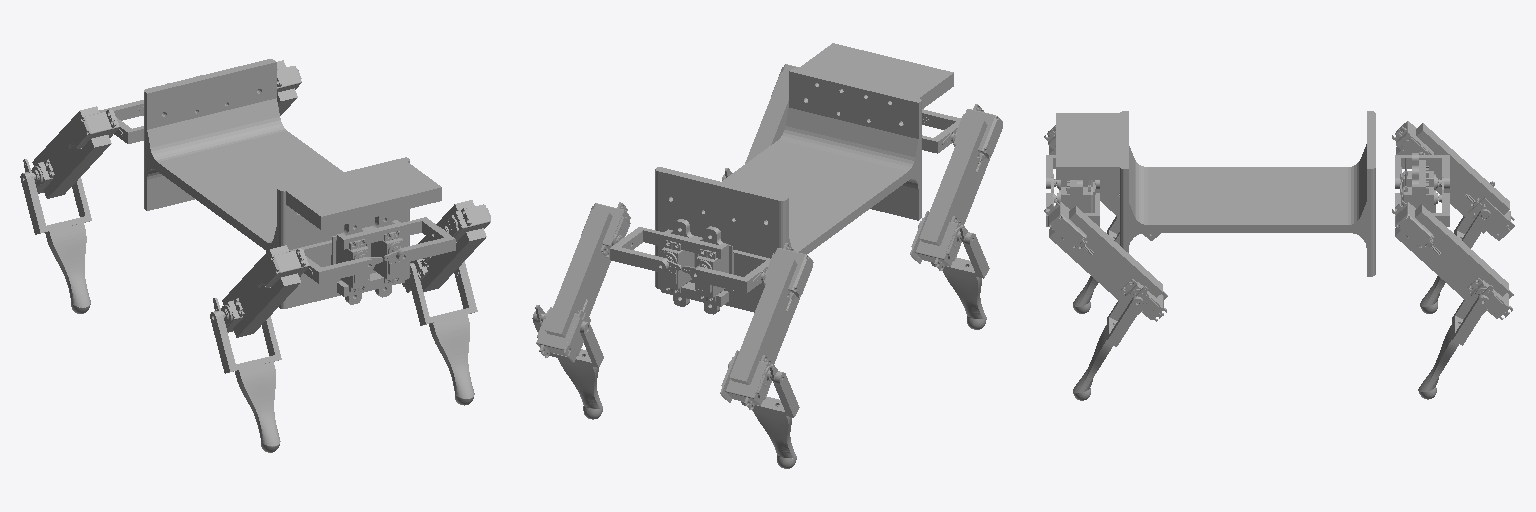
--- Facts derived from the render (not from the file) ---
3 views of the same robot in one strip: view 1: azimuth 30°, elevation 25°; view 2: azimuth 150°, elevation 25°; view 3: azimuth 270°, elevation 25° (orthographic).
Robot: simplicity — 46 links, 45 joints (12 continuous, 33 fixed); root link base_link; default pose: all joints at 0.
Visible links, largest first — view 1: base_link, flap_1, thigh_br_1, thigh_fr_1, leg_br_1, leg_fr_1, leg_fl_1, thigh_fl_1, shoulder_thigh_fl_1, thigh_leg_fr_1, thigh_leg_br_1, shoulder_thigh_fr_1 (+9 smaller); view 2: base_link, flap_1, thigh_br_1, thigh_fr_1, thigh_bl_1, shoulder_thigh_br_1, shoulder_thigh_bl_1, thigh_fl_1, shoulder_link_bt_1, servo_leg_br_1, servo_leg_fr_1, leg_bl_1 (+14 smaller); view 3: base_link, flap_1, thigh_fl_1, thigh_bl_1, thigh_br_1, thigh_leg_bl_1, thigh_leg_fl_1, servo_thigh_fl_1, servo_thigh_bl_1, shoulder_thigh_br_1, servo_leg_back_br_1, leg_fl_1 (+9 smaller).
Boxes of the visible links, left/top/right/bottom form: base_link: left=144, top=59, right=409, bottom=308; flap_1: left=286, top=162, right=441, bottom=229; thigh_br_1: left=32, top=106, right=111, bottom=198; thigh_fr_1: left=222, top=245, right=300, bottom=337; leg_br_1: left=45, top=223, right=90, bottom=307; leg_fr_1: left=235, top=362, right=280, bottom=446; leg_fl_1: left=429, top=314, right=474, bottom=398; thigh_fl_1: left=418, top=200, right=486, bottom=291; shoulder_thigh_fl_1: left=384, top=217, right=455, bottom=262; thigh_leg_fr_1: left=210, top=298, right=281, bottom=373; thigh_leg_br_1: left=20, top=159, right=91, bottom=234; shoulder_thigh_fr_1: left=289, top=240, right=382, bottom=283; base_link: left=655, top=68, right=921, bottom=312; flap_1: left=798, top=43, right=953, bottom=108; thigh_br_1: left=729, top=256, right=801, bottom=384; thigh_fr_1: left=919, top=117, right=991, bottom=245; thigh_bl_1: left=544, top=209, right=612, bottom=337; shoulder_thigh_br_1: left=682, top=250, right=770, bottom=293; shoulder_thigh_bl_1: left=610, top=227, right=681, bottom=272; thigh_fl_1: left=745, top=72, right=788, bottom=163; shoulder_link_bt_1: left=661, top=219, right=728, bottom=258; servo_leg_br_1: left=725, top=355, right=771, bottom=410; servo_leg_fr_1: left=915, top=216, right=961, bottom=270; leg_bl_1: left=558, top=358, right=602, bottom=408; base_link: left=1120, top=111, right=1375, bottom=276; flap_1: left=1056, top=113, right=1119, bottom=179; thigh_fl_1: left=1049, top=206, right=1162, bottom=314; thigh_bl_1: left=1395, top=204, right=1508, bottom=313; thigh_br_1: left=1396, top=123, right=1509, bottom=233; thigh_leg_bl_1: left=1452, top=285, right=1493, bottom=345; thigh_leg_fl_1: left=1107, top=286, right=1147, bottom=346; servo_thigh_fl_1: left=1044, top=200, right=1093, bottom=254; servo_thigh_bl_1: left=1392, top=200, right=1440, bottom=254; shoulder_thigh_br_1: left=1395, top=155, right=1449, bottom=189; servo_leg_back_br_1: left=1468, top=197, right=1514, bottom=240; leg_fl_1: left=1073, top=325, right=1112, bottom=393.
Bounding box of the posed robot: 0.2863 × 0.5154 × 0.2614 m (x, y, z).
Meshes: 46 distinct files referenced, 46 mesh visuals loaded (46 binary STL).

URDF robot description (simplicity):
<?xml version="1.0" encoding="utf-8"?>
<!-- =================================================================================== -->
<!-- |    This document was autogenerated by xacro from simplicity.xacro               | -->
<!-- |    EDITING THIS FILE BY HAND IS NOT RECOMMENDED                                 | -->
<!-- =================================================================================== -->
<robot name="simplicity">
  <material name="silver">
    <color rgba="0.700 0.700 0.700 1.000"/>
  </material>
  <transmission name="Rev14_tran">
    <type>transmission_interface/SimpleTransmission</type>
    <joint name="Rev14">
      <hardwareInterface>hardware_interface/EffortJointInterface</hardwareInterface>
    </joint>
    <actuator name="Rev14_actr">
      <hardwareInterface>hardware_interface/EffortJointInterface</hardwareInterface>
      <mechanicalReduction>1</mechanicalReduction>
    </actuator>
  </transmission>
  <transmission name="Rev15_tran">
    <type>transmission_interface/SimpleTransmission</type>
    <joint name="Rev15">
      <hardwareInterface>hardware_interface/EffortJointInterface</hardwareInterface>
    </joint>
    <actuator name="Rev15_actr">
      <hardwareInterface>hardware_interface/EffortJointInterface</hardwareInterface>
      <mechanicalReduction>1</mechanicalReduction>
    </actuator>
  </transmission>
  <transmission name="Rev16_tran">
    <type>transmission_interface/SimpleTransmission</type>
    <joint name="Rev16">
      <hardwareInterface>hardware_interface/EffortJointInterface</hardwareInterface>
    </joint>
    <actuator name="Rev16_actr">
      <hardwareInterface>hardware_interface/EffortJointInterface</hardwareInterface>
      <mechanicalReduction>1</mechanicalReduction>
    </actuator>
  </transmission>
  <transmission name="Rev17_tran">
    <type>transmission_interface/SimpleTransmission</type>
    <joint name="Rev17">
      <hardwareInterface>hardware_interface/EffortJointInterface</hardwareInterface>
    </joint>
    <actuator name="Rev17_actr">
      <hardwareInterface>hardware_interface/EffortJointInterface</hardwareInterface>
      <mechanicalReduction>1</mechanicalReduction>
    </actuator>
  </transmission>
  <transmission name="Rev18_tran">
    <type>transmission_interface/SimpleTransmission</type>
    <joint name="Rev18">
      <hardwareInterface>hardware_interface/EffortJointInterface</hardwareInterface>
    </joint>
    <actuator name="Rev18_actr">
      <hardwareInterface>hardware_interface/EffortJointInterface</hardwareInterface>
      <mechanicalReduction>1</mechanicalReduction>
    </actuator>
  </transmission>
  <transmission name="Rev19_tran">
    <type>transmission_interface/SimpleTransmission</type>
    <joint name="Rev19">
      <hardwareInterface>hardware_interface/EffortJointInterface</hardwareInterface>
    </joint>
    <actuator name="Rev19_actr">
      <hardwareInterface>hardware_interface/EffortJointInterface</hardwareInterface>
      <mechanicalReduction>1</mechanicalReduction>
    </actuator>
  </transmission>
  <transmission name="Rev20_tran">
    <type>transmission_interface/SimpleTransmission</type>
    <joint name="Rev20">
      <hardwareInterface>hardware_interface/EffortJointInterface</hardwareInterface>
    </joint>
    <actuator name="Rev20_actr">
      <hardwareInterface>hardware_interface/EffortJointInterface</hardwareInterface>
      <mechanicalReduction>1</mechanicalReduction>
    </actuator>
  </transmission>
  <transmission name="Rev21_tran">
    <type>transmission_interface/SimpleTransmission</type>
    <joint name="Rev21">
      <hardwareInterface>hardware_interface/EffortJointInterface</hardwareInterface>
    </joint>
    <actuator name="Rev21_actr">
      <hardwareInterface>hardware_interface/EffortJointInterface</hardwareInterface>
      <mechanicalReduction>1</mechanicalReduction>
    </actuator>
  </transmission>
  <transmission name="Rev35_tran">
    <type>transmission_interface/SimpleTransmission</type>
    <joint name="Rev35">
      <hardwareInterface>hardware_interface/EffortJointInterface</hardwareInterface>
    </joint>
    <actuator name="Rev35_actr">
      <hardwareInterface>hardware_interface/EffortJointInterface</hardwareInterface>
      <mechanicalReduction>1</mechanicalReduction>
    </actuator>
  </transmission>
  <transmission name="Rev36_tran">
    <type>transmission_interface/SimpleTransmission</type>
    <joint name="Rev36">
      <hardwareInterface>hardware_interface/EffortJointInterface</hardwareInterface>
    </joint>
    <actuator name="Rev36_actr">
      <hardwareInterface>hardware_interface/EffortJointInterface</hardwareInterface>
      <mechanicalReduction>1</mechanicalReduction>
    </actuator>
  </transmission>
  <transmission name="Rev37_tran">
    <type>transmission_interface/SimpleTransmission</type>
    <joint name="Rev37">
      <hardwareInterface>hardware_interface/EffortJointInterface</hardwareInterface>
    </joint>
    <actuator name="Rev37_actr">
      <hardwareInterface>hardware_interface/EffortJointInterface</hardwareInterface>
      <mechanicalReduction>1</mechanicalReduction>
    </actuator>
  </transmission>
  <transmission name="Rev38_tran">
    <type>transmission_interface/SimpleTransmission</type>
    <joint name="Rev38">
      <hardwareInterface>hardware_interface/EffortJointInterface</hardwareInterface>
    </joint>
    <actuator name="Rev38_actr">
      <hardwareInterface>hardware_interface/EffortJointInterface</hardwareInterface>
      <mechanicalReduction>1</mechanicalReduction>
    </actuator>
  </transmission>
  <gazebo>
    <plugin filename="libgazebo_ros_control.so" name="control">
      <robotNamespace>/simplicity</robotNamespace>
    </plugin>
  </gazebo>
  <gazebo>
    <plugin filename="libgazebo_ros_p3d.so" name="p3d_base_controller">
      <alwaysOn>true</alwaysOn>
      <!--<updateRate>50.0</updateRate>-->
      <bodyName>base_link</bodyName>
      <topicName>odom</topicName>
      <gaussianNoise>0.01</gaussianNoise>
      <frameName>world</frameName>
      <xyzOffsets>0 0 0</xyzOffsets>
      <rpyOffsets>0 0 0</rpyOffsets>
    </plugin>
  </gazebo>
  <gazebo reference="base_link">
    <material>Gazebo/Silver</material>
    <mu1>0.2</mu1>
    <mu2>0.2</mu2>
    <selfCollide>true</selfCollide>
    <gravity>true</gravity>
  </gazebo>
  <gazebo>
    <plugin filename="libgazebo_ros_imu.so" name="gazebo_ros_imu_controller">
      <robotNamespace>/simplicity</robotNamespace>
      <topicName>imu/data</topicName>
      <serviceName>imu/service</serviceName>
      <bodyName>base_link</bodyName>
      <gaussianNoise>0</gaussianNoise>
      <rpyOffsets>0 0 0</rpyOffsets>
      <!--<updateRate>50.0</updateRate>-->
      <alwaysOn>true</alwaysOn>
      <gaussianNoise>0</gaussianNoise>
    </plugin>
  </gazebo>
  <gazebo reference="flap_1">
    <material>Gazebo/Silver</material>
    <mu1>0.2</mu1>
    <mu2>0.2</mu2>
    <selfCollide>true</selfCollide>
  </gazebo>
  <gazebo reference="shoulder_link_ft_1">
    <material>Gazebo/Silver</material>
    <mu1>0.2</mu1>
    <mu2>0.2</mu2>
    <selfCollide>true</selfCollide>
  </gazebo>
  <gazebo reference="shoulder_link_fb_1">
    <material>Gazebo/Silver</material>
    <mu1>0.2</mu1>
    <mu2>0.2</mu2>
    <selfCollide>true</selfCollide>
  </gazebo>
  <gazebo reference="shoulder_link_bt_1">
    <material>Gazebo/Silver</material>
    <mu1>0.2</mu1>
    <mu2>0.2</mu2>
    <selfCollide>true</selfCollide>
  </gazebo>
  <gazebo reference="shoulder_link_bb_1">
    <material>Gazebo/Silver</material>
    <mu1>0.2</mu1>
    <mu2>0.2</mu2>
    <selfCollide>true</selfCollide>
  </gazebo>
  <gazebo reference="servo_shoulder_fr_1">
    <material>Gazebo/Silver</material>
    <mu1>0.2</mu1>
    <mu2>0.2</mu2>
    <selfCollide>true</selfCollide>
  </gazebo>
  <gazebo reference="servo_shoulder_fl_1">
    <material>Gazebo/Silver</material>
    <mu1>0.2</mu1>
    <mu2>0.2</mu2>
    <selfCollide>true</selfCollide>
  </gazebo>
  <gazebo reference="servo_shoulder_br_1">
    <material>Gazebo/Silver</material>
    <mu1>0.2</mu1>
    <mu2>0.2</mu2>
    <selfCollide>true</selfCollide>
  </gazebo>
  <gazebo reference="servo_shoulder_bl_1">
    <material>Gazebo/Silver</material>
    <mu1>0.2</mu1>
    <mu2>0.2</mu2>
    <selfCollide>true</selfCollide>
  </gazebo>
  <gazebo reference="servo_back_fl_1">
    <material>Gazebo/Silver</material>
    <mu1>0.2</mu1>
    <mu2>0.2</mu2>
    <selfCollide>true</selfCollide>
  </gazebo>
  <gazebo reference="servo_back_fr_1">
    <material>Gazebo/Silver</material>
    <mu1>0.2</mu1>
    <mu2>0.2</mu2>
    <selfCollide>true</selfCollide>
  </gazebo>
  <gazebo reference="servo_back_br_1">
    <material>Gazebo/Silver</material>
    <mu1>0.2</mu1>
    <mu2>0.2</mu2>
    <selfCollide>true</selfCollide>
  </gazebo>
  <gazebo reference="servo_back_bl_1">
    <material>Gazebo/Silver</material>
    <mu1>0.2</mu1>
    <mu2>0.2</mu2>
    <selfCollide>true</selfCollide>
  </gazebo>
  <gazebo reference="shoulder_thigh_fr_1">
    <material>Gazebo/Silver</material>
    <mu1>0.2</mu1>
    <mu2>0.2</mu2>
    <selfCollide>true</selfCollide>
  </gazebo>
  <gazebo reference="shoulder_thigh_fl_1">
    <material>Gazebo/Silver</material>
    <mu1>0.2</mu1>
    <mu2>0.2</mu2>
    <selfCollide>true</selfCollide>
  </gazebo>
  <gazebo reference="shoulder_thigh_bl_1">
    <material>Gazebo/Silver</material>
    <mu1>0.2</mu1>
    <mu2>0.2</mu2>
    <selfCollide>true</selfCollide>
  </gazebo>
  <gazebo reference="shoulder_thigh_br_1">
    <material>Gazebo/Silver</material>
    <mu1>0.2</mu1>
    <mu2>0.2</mu2>
    <selfCollide>true</selfCollide>
  </gazebo>
  <gazebo reference="servo_thigh_fl_1">
    <material>Gazebo/Silver</material>
    <mu1>0.2</mu1>
    <mu2>0.2</mu2>
    <selfCollide>true</selfCollide>
  </gazebo>
  <gazebo reference="servo-thigh_fr_1">
    <material>Gazebo/Silver</material>
    <mu1>0.2</mu1>
    <mu2>0.2</mu2>
    <selfCollide>true</selfCollide>
  </gazebo>
  <gazebo reference="servo_thigh_br_1">
    <material>Gazebo/Silver</material>
    <mu1>0.2</mu1>
    <mu2>0.2</mu2>
    <selfCollide>true</selfCollide>
  </gazebo>
  <gazebo reference="servo_thigh_bl_1">
    <material>Gazebo/Silver</material>
    <mu1>0.2</mu1>
    <mu2>0.2</mu2>
    <selfCollide>true</selfCollide>
  </gazebo>
  <gazebo reference="thigh_fl_1">
    <material>Gazebo/Silver</material>
    <mu1>0.2</mu1>
    <mu2>0.2</mu2>
    <selfCollide>true</selfCollide>
  </gazebo>
  <gazebo reference="thigh_fr_1">
    <material>Gazebo/Silver</material>
    <mu1>0.2</mu1>
    <mu2>0.2</mu2>
    <selfCollide>true</selfCollide>
  </gazebo>
  <gazebo reference="thigh_br_1">
    <material>Gazebo/Silver</material>
    <mu1>0.2</mu1>
    <mu2>0.2</mu2>
    <selfCollide>true</selfCollide>
  </gazebo>
  <gazebo reference="thigh_bl_1">
    <material>Gazebo/Silver</material>
    <mu1>0.2</mu1>
    <mu2>0.2</mu2>
    <selfCollide>true</selfCollide>
  </gazebo>
  <gazebo reference="servo_leg_fl_1">
    <material>Gazebo/Silver</material>
    <mu1>0.2</mu1>
    <mu2>0.2</mu2>
    <selfCollide>true</selfCollide>
  </gazebo>
  <gazebo reference="servo_leg_fr_1">
    <material>Gazebo/Silver</material>
    <mu1>0.2</mu1>
    <mu2>0.2</mu2>
    <selfCollide>true</selfCollide>
  </gazebo>
  <gazebo reference="servo_leg_br_1">
    <material>Gazebo/Silver</material>
    <mu1>0.2</mu1>
    <mu2>0.2</mu2>
    <selfCollide>true</selfCollide>
  </gazebo>
  <gazebo reference="servo_leg_bl_1">
    <material>Gazebo/Silver</material>
    <mu1>0.2</mu1>
    <mu2>0.2</mu2>
    <selfCollide>true</selfCollide>
  </gazebo>
  <gazebo reference="servo_leg_back_fr_1">
    <material>Gazebo/Silver</material>
    <mu1>0.2</mu1>
    <mu2>0.2</mu2>
    <selfCollide>true</selfCollide>
  </gazebo>
  <gazebo reference="servo_leg_back_fl_1">
    <material>Gazebo/Silver</material>
    <mu1>0.2</mu1>
    <mu2>0.2</mu2>
    <selfCollide>true</selfCollide>
  </gazebo>
  <gazebo reference="servo_leg_back_br_1">
    <material>Gazebo/Silver</material>
    <mu1>0.2</mu1>
    <mu2>0.2</mu2>
    <selfCollide>true</selfCollide>
  </gazebo>
  <gazebo reference="servo_leg_back_bl_1">
    <material>Gazebo/Silver</material>
    <mu1>0.2</mu1>
    <mu2>0.2</mu2>
    <selfCollide>true</selfCollide>
  </gazebo>
  <gazebo reference="thigh_leg_fl_1">
    <material>Gazebo/Silver</material>
    <mu1>0.2</mu1>
    <mu2>0.2</mu2>
    <selfCollide>true</selfCollide>
  </gazebo>
  <gazebo reference="thigh_leg_fr_1">
    <material>Gazebo/Silver</material>
    <mu1>0.2</mu1>
    <mu2>0.2</mu2>
    <selfCollide>true</selfCollide>
  </gazebo>
  <gazebo reference="thigh_leg_bl_1">
    <material>Gazebo/Silver</material>
    <mu1>0.2</mu1>
    <mu2>0.2</mu2>
    <selfCollide>true</selfCollide>
  </gazebo>
  <gazebo reference="thigh_leg_br_1">
    <material>Gazebo/Silver</material>
    <mu1>0.2</mu1>
    <mu2>0.2</mu2>
    <selfCollide>true</selfCollide>
  </gazebo>
  <gazebo reference="contact_sensor_fl_1">
    <material>Gazebo/Silver</material>
    <mu1>0.2</mu1>
    <mu2>0.2</mu2>
    <selfCollide>true</selfCollide>
  </gazebo>
  <gazebo reference="contact_sensor_fl_1">
    <material>Gazebo/Blue</material>
    <kp>1000000.0</kp>
    <kd>1000000.0</kd>
    <mu1>1000000.0</mu1>
    <mu2>1000000.0</mu2>
    <sensor name="contactsensor_sensor" type="contact">
      <always_on>true</always_on>
      <contact>
        <collision>contact_sensor_fl_1_collision_1</collision>
      </contact>
      <plugin filename="libgazebo_ros_bumper.so" name="bumper0_plugin">
        <bumperTopicName>front_left_contact_sensor_state</bumperTopicName>
        <frameName>contact_sensor_fl_1</frameName>
      </plugin>
    </sensor>
  </gazebo>
  <gazebo reference="contact_sensor_fr_1">
    <material>Gazebo/Silver</material>
    <mu1>0.2</mu1>
    <mu2>0.2</mu2>
    <selfCollide>true</selfCollide>
  </gazebo>
  <gazebo reference="contact_sensor_fr_1">
    <material>Gazebo/Blue</material>
    <kp>1000000.0</kp>
    <kd>1000000.0</kd>
    <mu1>1000000.0</mu1>
    <mu2>1000000.0</mu2>
    <sensor name="contactsensor_sensor" type="contact">
      <always_on>true</always_on>
      <contact>
        <collision>contact_sensor_fr_1_collision_1</collision>
      </contact>
      <plugin filename="libgazebo_ros_bumper.so" name="bumper0_plugin">
        <bumperTopicName>front_right_contact_sensor_state</bumperTopicName>
        <frameName>contact_sensor_fr_1</frameName>
      </plugin>
    </sensor>
  </gazebo>
  <gazebo reference="contact_sensor_bl_1">
    <material>Gazebo/Silver</material>
    <mu1>0.2</mu1>
    <mu2>0.2</mu2>
    <selfCollide>true</selfCollide>
  </gazebo>
  <gazebo reference="contact_sensor_bl_1">
    <material>Gazebo/Blue</material>
    <kp>1000000.0</kp>
    <kd>1000000.0</kd>
    <mu1>1000000.0</mu1>
    <mu2>1000000.0</mu2>
    <sensor name="contactsensor_sensor" type="contact">
      <always_on>true</always_on>
      <contact>
        <collision>contact_sensor_bl_1_collision_1</collision>
      </contact>
      <plugin filename="libgazebo_ros_bumper.so" name="bumper0_plugin">
        <bumperTopicName>back_left_contact_sensor_state</bumperTopicName>
        <frameName>contact_sensor_bl_1</frameName>
      </plugin>
    </sensor>
  </gazebo>
  <gazebo reference="contact_sensor_br_1">
    <material>Gazebo/Silver</material>
    <mu1>0.2</mu1>
    <mu2>0.2</mu2>
    <selfCollide>true</selfCollide>
  </gazebo>
  <gazebo reference="contact_sensor_br_1">
    <material>Gazebo/Blue</material>
    <kp>1000000.0</kp>
    <kd>1000000.0</kd>
    <mu1>1000000.0</mu1>
    <mu2>1000000.0</mu2>
    <sensor name="contactsensor_sensor" type="contact">
      <always_on>true</always_on>
      <contact>
        <collision>contact_sensor_br_1_collision_1</collision>
      </contact>
      <plugin filename="libgazebo_ros_bumper.so" name="bumper0_plugin">
        <bumperTopicName>back_right_contact_sensor_state</bumperTopicName>
        <frameName>contact_sensor_br_1</frameName>
      </plugin>
    </sensor>
  </gazebo>
  <gazebo reference="leg_fl_1">
    <material>Gazebo/Silver</material>
    <mu1>0.2</mu1>
    <mu2>0.2</mu2>
    <selfCollide>true</selfCollide>
  </gazebo>
  <gazebo reference="leg_fr_1">
    <material>Gazebo/Silver</material>
    <mu1>0.2</mu1>
    <mu2>0.2</mu2>
    <selfCollide>true</selfCollide>
  </gazebo>
  <gazebo reference="leg_bl_1">
    <material>Gazebo/Silver</material>
    <mu1>0.2</mu1>
    <mu2>0.2</mu2>
    <selfCollide>true</selfCollide>
  </gazebo>
  <gazebo reference="leg_br_1">
    <material>Gazebo/Silver</material>
    <mu1>0.2</mu1>
    <mu2>0.2</mu2>
    <selfCollide>true</selfCollide>
  </gazebo>
  <link name="base_link">
    <inertial>
      <origin rpy="0 0 0" xyz="4.112035898902128e-16 -0.0048792588010025915 0.008837933311495879"/>
      <mass value="6.620487558792786"/>
      <inertia ixx="0.085233" ixy="0.0" ixz="-0.0" iyy="0.01677" iyz="-4.9e-05" izz="0.093157"/>
    </inertial>
    <visual>
      <origin rpy="0 0 0" xyz="0 0 0"/>
      <geometry>
        <mesh filename="package://simplicity_description/meshes/base_link.stl" scale="0.001 0.001 0.001"/>
      </geometry>
      <material name="silver"/>
    </visual>
    <collision>
      <origin rpy="0 0 0" xyz="0 0 0"/>
      <geometry>
        <mesh filename="package://simplicity_description/meshes/base_link.stl" scale="0.001 0.001 0.001"/>
      </geometry>
    </collision>
  </link>
  <link name="flap_1">
    <inertial>
      <origin rpy="0 0 0" xyz="0.014000000000002828 -0.03516115626697258 2.498001805406602e-16"/>
      <mass value="1.1477327119549225"/>
      <inertia ixx="0.000487" ixy="-0.0" ixz="-0.0" iyy="0.0019" iyz="0.0" izz="0.002344"/>
    </inertial>
    <visual>
      <origin rpy="0 0 0" xyz="0.014 0.145 -0.07"/>
      <geometry>
        <mesh filename="package://simplicity_description/meshes/flap_1.stl" scale="0.001 0.001 0.001"/>
      </geometry>
      <material name="silver"/>
    </visual>
    <collision>
      <origin rpy="0 0 0" xyz="0.014 0.145 -0.07"/>
      <geometry>
        <mesh filename="package://simplicity_description/meshes/flap_1.stl" scale="0.001 0.001 0.001"/>
      </geometry>
    </collision>
  </link>
  <link name="shoulder_link_ft_1">
    <inertial>
      <origin rpy="0 0 0" xyz="-0.017499997312540948 -0.006654145164107783 -0.009325483569031609"/>
      <mass value="0.10866931320767136"/>
      <inertia ixx="6e-06" ixy="0.0" ixz="-0.0" iyy="4.7e-05" iyz="-1e-06" izz="4.4e-05"/>
    </inertial>
    <visual>
      <origin rpy="0 0 0" xyz="-0.0175 0.185 -0.044195"/>
      <geometry>
        <mesh filename="package://simplicity_description/meshes/shoulder_link_ft_1.stl" scale="0.001 0.001 0.001"/>
      </geometry>
      <material name="silver"/>
    </visual>
    <collision>
      <origin rpy="0 0 0" xyz="-0.0175 0.185 -0.044195"/>
      <geometry>
        <mesh filename="package://simplicity_description/meshes/shoulder_link_ft_1.stl" scale="0.001 0.001 0.001"/>
      </geometry>
    </collision>
  </link>
  <link name="shoulder_link_fb_1">
    <inertial>
      <origin rpy="0 0 0" xyz="0.017499997312540903 -0.006654145164107644 0.00932570682031407"/>
      <mass value="0.10866931320767136"/>
      <inertia ixx="6e-06" ixy="-0.0" ixz="-0.0" iyy="4.7e-05" iyz="1e-06" izz="4.4e-05"/>
    </inertial>
    <visual>
      <origin rpy="0 0 0" xyz="0.0175 0.185 0.032226"/>
      <geometry>
        <mesh filename="package://simplicity_description/meshes/shoulder_link_fb_1.stl" scale="0.001 0.001 0.001"/>
      </geometry>
      <material name="silver"/>
    </visual>
    <collision>
      <origin rpy="0 0 0" xyz="0.0175 0.185 0.032226"/>
      <geometry>
        <mesh filename="package://simplicity_description/meshes/shoulder_link_fb_1.stl" scale="0.001 0.001 0.001"/>
      </geometry>
    </collision>
  </link>
  <link name="shoulder_link_bt_1">
    <inertial>
      <origin rpy="0 0 0" xyz="0.01749999731254086 0.006654145164107728 -0.009325483569031685"/>
      <mass value="0.10866931320767136"/>
      <inertia ixx="6e-06" ixy="0.0" ixz="0.0" iyy="4.7e-05" iyz="1e-06" izz="4.4e-05"/>
    </inertial>
    <visual>
      <origin rpy="0 0 0" xyz="0.0175 -0.175 -0.044195"/>
      <geometry>
        <mesh filename="package://simplicity_description/meshes/shoulder_link_bt_1.stl" scale="0.001 0.001 0.001"/>
      </geometry>
      <material name="silver"/>
    </visual>
    <collision>
      <origin rpy="0 0 0" xyz="0.0175 -0.175 -0.044195"/>
      <geometry>
        <mesh filename="package://simplicity_description/meshes/shoulder_link_bt_1.stl" scale="0.001 0.001 0.001"/>
      </geometry>
    </collision>
  </link>
  <link name="shoulder_link_bb_1">
    <inertial>
      <origin rpy="0 0 0" xyz="0.01750000268745918 0.006654145164107728 0.009325706820313927"/>
      <mass value="0.10866931320767136"/>
      <inertia ixx="6e-06" ixy="-0.0" ixz="0.0" iyy="4.7e-05" iyz="-1e-06" izz="4.4e-05"/>
    </inertial>
    <visual>
      <origin rpy="0 0 0" xyz="0.0175 -0.175 0.032226"/>
      <geometry>
        <mesh filename="package://simplicity_description/meshes/shoulder_link_bb_1.stl" scale="0.001 0.001 0.001"/>
      </geometry>
      <material name="silver"/>
    </visual>
    <collision>
      <origin rpy="0 0 0" xyz="0.0175 -0.175 0.032226"/>
      <geometry>
        <mesh filename="package://simplicity_description/meshes/shoulder_link_bb_1.stl" scale="0.001 0.001 0.001"/>
      </geometry>
    </collision>
  </link>
  <link name="servo_shoulder_fr_1">
    <inertial>
      <origin rpy="0 0 0" xyz="-0.005000000000002336 0.00543241821151455 0.025443770697721274"/>
      <mass value="0.12611294901526873"/>
      <inertia ixx="4.3e-05" ixy="-0.0" ixz="-0.0" iyy="2.4e-05" iyz="0.0" izz="2.7e-05"/>
    </inertial>
    <visual>
      <origin rpy="0 0 0" xyz="0.015 0.2 0.018905"/>
      <geometry>
        <mesh filename="package://simplicity_description/meshes/servo_shoulder_fr_1.stl" scale="0.001 0.001 0.001"/>
      </geometry>
      <material name="silver"/>
    </visual>
    <collision>
      <origin rpy="0 0 0" xyz="0.015 0.2 0.018905"/>
      <geometry>
        <mesh filename="package://simplicity_description/meshes/servo_shoulder_fr_1.stl" scale="0.001 0.001 0.001"/>
      </geometry>
    </collision>
  </link>
  <link name="servo_shoulder_fl_1">
    <inertial>
      <origin rpy="0 0 0" xyz="0.0049999999999970485 0.005432418211514745 -0.024335644246294287"/>
      <mass value="0.12611294901526873"/>
      <inertia ixx="4.3e-05" ixy="-0.0" ixz="-0.0" iyy="2.4e-05" iyz="0.0" izz="2.7e-05"/>
    </inertial>
    <visual>
      <origin rpy="0 0 0" xyz="-0.015 0.2 -0.030874"/>
      <geometry>
        <mesh filename="package://simplicity_description/meshes/servo_shoulder_fl_1.stl" scale="0.001 0.001 0.001"/>
      </geometry>
      <material name="silver"/>
    </visual>
    <collision>
      <origin rpy="0 0 0" xyz="-0.015 0.2 -0.030874"/>
      <geometry>
        <mesh filename="package://simplicity_description/meshes/servo_shoulder_fl_1.stl" scale="0.001 0.001 0.001"/>
      </geometry>
    </collision>
  </link>
  <link name="servo_shoulder_br_1">
    <inertial>
      <origin rpy="0 0 0" xyz="0.00500000000000243 -0.00543241821151455 -0.02433564424629428"/>
      <mass value="0.12611294901526873"/>
      <inertia ixx="4.3e-05" ixy="-0.0" ixz="0.0" iyy="2.4e-05" iyz="-0.0" izz="2.7e-05"/>
    </inertial>
    <visual>
      <origin rpy="0 0 0" xyz="0.025 -0.19 -0.030874"/>
      <geometry>
        <mesh filename="package://simplicity_description/meshes/servo_shoulder_br_1.stl" scale="0.001 0.001 0.001"/>
      </geometry>
      <material name="silver"/>
    </visual>
    <collision>
      <origin rpy="0 0 0" xyz="0.025 -0.19 -0.030874"/>
      <geometry>
        <mesh filename="package://simplicity_description/meshes/servo_shoulder_br_1.stl" scale="0.001 0.001 0.001"/>
      </geometry>
    </collision>
  </link>
  <link name="servo_shoulder_bl_1">
    <inertial>
      <origin rpy="0 0 0" xyz="0.005000350405373357 -0.005432418211514467 -0.02433592840843149"/>
      <mass value="0.12611294901526873"/>
      <inertia ixx="4.3e-05" ixy="-0.0" ixz="0.0" iyy="2.4e-05" iyz="-0.0" izz="2.7e-05"/>
    </inertial>
    <visual>
      <origin rpy="0 0 0" xyz="-0.015 -0.19 -0.030893"/>
      <geometry>
        <mesh filename="package://simplicity_description/meshes/servo_shoulder_bl_1.stl" scale="0.001 0.001 0.001"/>
      </geometry>
      <material name="silver"/>
    </visual>
    <collision>
      <origin rpy="0 0 0" xyz="-0.015 -0.19 -0.030893"/>
      <geometry>
        <mesh filename="package://simplicity_description/meshes/servo_shoulder_bl_1.stl" scale="0.001 0.001 0.001"/>
      </geometry>
    </collision>
  </link>
  <link name="servo_back_fl_1">
    <inertial>
      <origin rpy="0 0 0" xyz="1.7562160059547693e-11 0.0008661095082098391 0.0007024205530737973"/>
      <mass value="0.02281063258866873"/>
      <inertia ixx="4e-06" ixy="-0.0" ixz="0.0" iyy="5e-06" iyz="-0.0" izz="1e-06"/>
    </inertial>
    <visual>
      <origin rpy="0 0 0" xyz="-0.02 0.1731 -0.005984"/>
      <geometry>
        <mesh filename="package://simplicity_description/meshes/servo_back_fl_1.stl" scale="0.001 0.001 0.001"/>
      </geometry>
      <material name="silver"/>
    </visual>
    <collision>
      <origin rpy="0 0 0" xyz="-0.02 0.1731 -0.005984"/>
      <geometry>
        <mesh filename="package://simplicity_description/meshes/servo_back_fl_1.stl" scale="0.001 0.001 0.001"/>
      </geometry>
    </collision>
  </link>
  <link name="servo_back_fr_1">
    <inertial>
      <origin rpy="0 0 0" xyz="1.7564595611307965e-11 0.0008661095082097281 0.0007018354970893589"/>
      <mass value="0.02281063258866873"/>
      <inertia ixx="4e-06" ixy="-0.0" ixz="0.0" iyy="5e-06" iyz="-0.0" izz="1e-06"/>
    </inertial>
    <visual>
      <origin rpy="0 0 0" xyz="0.02 0.1731 -0.005985"/>
      <geometry>
        <mesh filename="package://simplicity_description/meshes/servo_back_fr_1.stl" scale="0.001 0.001 0.001"/>
      </geometry>
      <material name="silver"/>
    </visual>
    <collision>
      <origin rpy="0 0 0" xyz="0.02 0.1731 -0.005985"/>
      <geometry>
        <mesh filename="package://simplicity_description/meshes/servo_back_fr_1.stl" scale="0.001 0.001 0.001"/>
      </geometry>
    </collision>
  </link>
  <link name="servo_back_br_1">
    <inertial>
      <origin rpy="0 0 0" xyz="-1.756455050849759e-11 -0.0008661095082097281 0.0007024205530738103"/>
      <mass value="0.02281063258866873"/>
      <inertia ixx="4e-06" ixy="-0.0" ixz="-0.0" iyy="5e-06" iyz="0.0" izz="1e-06"/>
    </inertial>
    <visual>
      <origin rpy="0 0 0" xyz="0.02 -0.1631 -0.005984"/>
      <geometry>
        <mesh filename="package://simplicity_description/meshes/servo_back_br_1.stl" scale="0.001 0.001 0.001"/>
      </geometry>
      <material name="silver"/>
    </visual>
    <collision>
      <origin rpy="0 0 0" xyz="0.02 -0.1631 -0.005984"/>
      <geometry>
        <mesh filename="package://simplicity_description/meshes/servo_back_br_1.stl" scale="0.001 0.001 0.001"/>
      </geometry>
    </collision>
  </link>
  <link name="servo_back_bl_1">
    <inertial>
      <origin rpy="0 0 0" xyz="3.503878068279731e-07 -0.0008661095082098114 0.0007021363909365938"/>
      <mass value="0.02281063258866873"/>
      <inertia ixx="4e-06" ixy="-0.0" ixz="-0.0" iyy="5e-06" iyz="0.0" izz="1e-06"/>
    </inertial>
    <visual>
      <origin rpy="0 0 0" xyz="-0.02 -0.1631 -0.006003"/>
      <geometry>
        <mesh filename="package://simplicity_description/meshes/servo_back_bl_1.stl" scale="0.001 0.001 0.001"/>
      </geometry>
      <material name="silver"/>
    </visual>
    <collision>
      <origin rpy="0 0 0" xyz="-0.02 -0.1631 -0.006003"/>
      <geometry>
        <mesh filename="package://simplicity_description/meshes/servo_back_bl_1.stl" scale="0.001 0.001 0.001"/>
      </geometry>
    </collision>
  </link>
  <link name="shoulder_thigh_fr_1">
    <inertial>
      <origin rpy="0 0 0" xyz="-0.03536836247769268 0.01856774724193691 -1.8091769650105394e-07"/>
      <mass value="0.1304736517617523"/>
      <inertia ixx="7.1e-05" ixy="7e-06" ixz="-0.0" iyy="5.6e-05" iyz="0.0" izz="0.000123"/>
    </inertial>
    <visual>
      <origin rpy="0 0 0" xyz="0.02 0.2175 -0.016285"/>
      <geometry>
        <mesh filename="package://simplicity_description/meshes/shoulder_thigh_fr_1.stl" scale="0.001 0.001 0.001"/>
      </geometry>
      <material name="silver"/>
    </visual>
    <collision>
      <origin rpy="0 0 0" xyz="0.02 0.2175 -0.016285"/>
      <geometry>
        <mesh filename="package://simplicity_description/meshes/shoulder_thigh_fr_1.stl" scale="0.001 0.001 0.001"/>
      </geometry>
    </collision>
  </link>
  <link name="shoulder_thigh_fl_1">
    <inertial>
      <origin rpy="0 0 0" xyz="0.03536836247769255 0.018567747241940047 4.0416897906930815e-07"/>
      <mass value="0.1304736517617523"/>
      <inertia ixx="7.1e-05" ixy="-7e-06" ixz="-0.0" iyy="5.6e-05" iyz="-0.0" izz="0.000123"/>
    </inertial>
    <visual>
      <origin rpy="0 0 0" xyz="-0.02 0.2175 -0.016284"/>
      <geometry>
        <mesh filename="package://simplicity_description/meshes/shoulder_thigh_fl_1.stl" scale="0.001 0.001 0.001"/>
      </geometry>
      <material name="silver"/>
    </visual>
    <collision>
      <origin rpy="0 0 0" xyz="-0.02 0.2175 -0.016284"/>
      <geometry>
        <mesh filename="package://simplicity_description/meshes/shoulder_thigh_fl_1.stl" scale="0.001 0.001 0.001"/>
      </geometry>
    </collision>
  </link>
  <link name="shoulder_thigh_bl_1">
    <inertial>
      <origin rpy="0 0 0" xyz="0.0353687128830632 -0.018567747241936827 1.1997615072603662e-07"/>
      <mass value="0.1304736517617523"/>
      <inertia ixx="7.1e-05" ixy="7e-06" ixz="0.0" iyy="5.6e-05" iyz="-0.0" izz="0.000123"/>
    </inertial>
    <visual>
      <origin rpy="0 0 0" xyz="-0.02 -0.2075 -0.016303"/>
      <geometry>
        <mesh filename="package://simplicity_description/meshes/shoulder_thigh_bl_1.stl" scale="0.001 0.001 0.001"/>
      </geometry>
      <material name="silver"/>
    </visual>
    <collision>
      <origin rpy="0 0 0" xyz="-0.02 -0.2075 -0.016303"/>
      <geometry>
        <mesh filename="package://simplicity_description/meshes/shoulder_thigh_bl_1.stl" scale="0.001 0.001 0.001"/>
      </geometry>
    </collision>
  </link>
  <link name="shoulder_thigh_br_1">
    <inertial>
      <origin rpy="0 0 0" xyz="-0.03536836247769273 -0.018567747241936827 4.041689790727776e-07"/>
      <mass value="0.1304736517617523"/>
      <inertia ixx="7.1e-05" ixy="-7e-06" ixz="0.0" iyy="5.6e-05" iyz="0.0" izz="0.000123"/>
    </inertial>
    <visual>
      <origin rpy="0 0 0" xyz="0.02 -0.2075 -0.016284"/>
      <geometry>
        <mesh filename="package://simplicity_description/meshes/shoulder_thigh_br_1.stl" scale="0.001 0.001 0.001"/>
      </geometry>
      <material name="silver"/>
    </visual>
    <collision>
      <origin rpy="0 0 0" xyz="0.02 -0.2075 -0.016284"/>
      <geometry>
        <mesh filename="package://simplicity_description/meshes/shoulder_thigh_br_1.stl" scale="0.001 0.001 0.001"/>
      </geometry>
    </collision>
  </link>
  <link name="servo_thigh_fl_1">
    <inertial>
      <origin rpy="0 0 0" xyz="0.022932418584043157 -0.006891496913355971 0.006891901066993125"/>
      <mass value="0.12611294901526873"/>
      <inertia ixx="2.4e-05" ixy="0.0" ixz="-0.0" iyy="3.5e-05" iyz="8e-06" izz="3.5e-05"/>
    </inertial>
    <visual>
      <origin rpy="0 0 0" xyz="-0.07975 0.19495 -0.016284"/>
      <geometry>
        <mesh filename="package://simplicity_description/meshes/servo_thigh_fl_1.stl" scale="0.001 0.001 0.001"/>
      </geometry>
      <material name="silver"/>
    </visual>
    <collision>
      <origin rpy="0 0 0" xyz="-0.07975 0.19495 -0.016284"/>
      <geometry>
        <mesh filename="package://simplicity_description/meshes/servo_thigh_fl_1.stl" scale="0.001 0.001 0.001"/>
      </geometry>
    </collision>
  </link>
  <link name="servo-thigh_fr_1">
    <inertial>
      <origin rpy="0 0 0" xyz="-0.022932418584043657 -0.006891496913359663 0.0068913160110097085"/>
      <mass value="0.12611294901526873"/>
      <inertia ixx="2.4e-05" ixy="-0.0" ixz="0.0" iyy="3.5e-05" iyz="8e-06" izz="3.5e-05"/>
    </inertial>
    <visual>
      <origin rpy="0 0 0" xyz="0.07975 0.19495 -0.016285"/>
      <geometry>
        <mesh filename="package://simplicity_description/meshes/servo-thigh_fr_1.stl" scale="0.001 0.001 0.001"/>
      </geometry>
      <material name="silver"/>
    </visual>
    <collision>
      <origin rpy="0 0 0" xyz="0.07975 0.19495 -0.016285"/>
      <geometry>
        <mesh filename="package://simplicity_description/meshes/servo-thigh_fr_1.stl" scale="0.001 0.001 0.001"/>
      </geometry>
    </collision>
  </link>
  <link name="servo_thigh_br_1">
    <inertial>
      <origin rpy="0 0 0" xyz="-0.0229324185840437 -0.006891496913359246 0.006891901066994537"/>
      <mass value="0.12611294901526873"/>
      <inertia ixx="2.4e-05" ixy="-0.0" ixz="0.0" iyy="3.5e-05" iyz="8e-06" izz="3.5e-05"/>
    </inertial>
    <visual>
      <origin rpy="0 0 0" xyz="0.07975 -0.18495 -0.016284"/>
      <geometry>
        <mesh filename="package://simplicity_description/meshes/servo_thigh_br_1.stl" scale="0.001 0.001 0.001"/>
      </geometry>
      <material name="silver"/>
    </visual>
    <collision>
      <origin rpy="0 0 0" xyz="0.07975 -0.18495 -0.016284"/>
      <geometry>
        <mesh filename="package://simplicity_description/meshes/servo_thigh_br_1.stl" scale="0.001 0.001 0.001"/>
      </geometry>
    </collision>
  </link>
  <link name="servo_thigh_bl_1">
    <inertial>
      <origin rpy="0 0 0" xyz="0.02293276898941332 -0.0068914969133627435 0.006891616904855773"/>
      <mass value="0.12611294901526873"/>
      <inertia ixx="2.4e-05" ixy="0.0" ixz="-0.0" iyy="3.5e-05" iyz="8e-06" izz="3.5e-05"/>
    </inertial>
    <visual>
      <origin rpy="0 0 0" xyz="-0.07975 -0.18495 -0.016303"/>
      <geometry>
        <mesh filename="package://simplicity_description/meshes/servo_thigh_bl_1.stl" scale="0.001 0.001 0.001"/>
      </geometry>
      <material name="silver"/>
    </visual>
    <collision>
      <origin rpy="0 0 0" xyz="-0.07975 -0.18495 -0.016303"/>
      <geometry>
        <mesh filename="package://simplicity_description/meshes/servo_thigh_bl_1.stl" scale="0.001 0.001 0.001"/>
      </geometry>
    </collision>
  </link>
  <link name="thigh_fl_1">
    <inertial>
      <origin rpy="0 0 0" xyz="0.010000000372525186 0.020948873011734453 -0.02801994489132628"/>
      <mass value="0.6807246295804776"/>
      <inertia ixx="0.000888" ixy="0.0" ixz="-0.0" iyy="0.000466" iyz="0.000325" izz="0.000466"/>
    </inertial>
    <visual>
      <origin rpy="0 0 0" xyz="-0.09725 0.181098 -0.009504"/>
      <geometry>
        <mesh filename="package://simplicity_description/meshes/thigh_fl_1.stl" scale="0.001 0.001 0.001"/>
      </geometry>
      <material name="silver"/>
    </visual>
    <collision>
      <origin rpy="0 0 0" xyz="-0.09725 0.181098 -0.009504"/>
      <geometry>
        <mesh filename="package://simplicity_description/meshes/thigh_fl_1.stl" scale="0.001 0.001 0.001"/>
      </geometry>
    </collision>
  </link>
  <link name="thigh_fr_1">
    <inertial>
      <origin rpy="0 0 0" xyz="-0.010000000372527476 0.02801987301172676 -0.020948529947312708"/>
      <mass value="0.6807246295804776"/>
      <inertia ixx="0.000888" ixy="0.0" ixz="0.0" iyy="0.000466" iyz="0.000325" izz="0.000466"/>
    </inertial>
    <visual>
      <origin rpy="0 0 0" xyz="0.09725 0.188169 -0.002433"/>
      <geometry>
        <mesh filename="package://simplicity_description/meshes/thigh_fr_1.stl" scale="0.001 0.001 0.001"/>
      </geometry>
      <material name="silver"/>
    </visual>
    <collision>
      <origin rpy="0 0 0" xyz="0.09725 0.188169 -0.002433"/>
      <geometry>
        <mesh filename="package://simplicity_description/meshes/thigh_fr_1.stl" scale="0.001 0.001 0.001"/>
      </geometry>
    </collision>
  </link>
  <link name="thigh_br_1">
    <inertial>
      <origin rpy="0 0 0" xyz="-0.010000000372523923 0.0280193490449602 -0.020948468858096723"/>
      <mass value="0.6807246295804776"/>
      <inertia ixx="0.000888" ixy="-0.0" ixz="0.0" iyy="0.000466" iyz="0.000325" izz="0.000466"/>
    </inertial>
    <visual>
      <origin rpy="0 0 0" xyz="0.09725 -0.191731 -0.002432"/>
      <geometry>
        <mesh filename="package://simplicity_description/meshes/thigh_br_1.stl" scale="0.001 0.001 0.001"/>
      </geometry>
      <material name="silver"/>
    </visual>
    <collision>
      <origin rpy="0 0 0" xyz="0.09725 -0.191731 -0.002432"/>
      <geometry>
        <mesh filename="package://simplicity_description/meshes/thigh_br_1.stl" scale="0.001 0.001 0.001"/>
      </geometry>
    </collision>
  </link>
  <link name="thigh_bl_1">
    <inertial>
      <origin rpy="0 0 0" xyz="0.010000350777899278 0.020949238093116884 -0.028019594134853144"/>
      <mass value="0.6807246295804776"/>
      <inertia ixx="0.000888" ixy="-0.0" ixz="0.0" iyy="0.000466" iyz="0.000325" izz="0.000466"/>
    </inertial>
    <visual>
      <origin rpy="0 0 0" xyz="-0.09725 -0.197246 -0.011078"/>
      <geometry>
        <mesh filename="package://simplicity_description/meshes/thigh_bl_1.stl" scale="0.001 0.001 0.001"/>
      </geometry>
      <material name="silver"/>
    </visual>
    <collision>
      <origin rpy="0 0 0" xyz="-0.09725 -0.197246 -0.011078"/>
      <geometry>
        <mesh filename="package://simplicity_description/meshes/thigh_bl_1.stl" scale="0.001 0.001 0.001"/>
      </geometry>
    </collision>
  </link>
  <link name="servo_leg_fl_1">
    <inertial>
      <origin rpy="0 0 0" xyz="-0.005432417838992815 0.020743718970054364 -0.013672314816416058"/>
      <mass value="0.12611294901526873"/>
      <inertia ixx="2.4e-05" ixy="0.0" ixz="-0.0" iyy="3.5e-05" iyz="8e-06" izz="3.5e-05"/>
    </inertial>
    <visual>
      <origin rpy="0 0 0" xyz="-0.11725 0.139201 0.046536"/>
      <geometry>
        <mesh filename="package://simplicity_description/meshes/servo_leg_fl_1.stl" scale="0.001 0.001 0.001"/>
      </geometry>
      <material name="silver"/>
    </visual>
    <collision>
      <origin rpy="0 0 0" xyz="-0.11725 0.139201 0.046536"/>
      <geometry>
        <mesh filename="package://simplicity_description/meshes/servo_leg_fl_1.stl" scale="0.001 0.001 0.001"/>
      </geometry>
    </collision>
  </link>
  <link name="servo_leg_fr_1">
    <inertial>
      <origin rpy="0 0 0" xyz="0.005432417838988707 0.020743718970049063 -0.013671899872399342"/>
      <mass value="0.12611294901526873"/>
      <inertia ixx="2.4e-05" ixy="-0.0" ixz="0.0" iyy="3.5e-05" iyz="8e-06" izz="3.5e-05"/>
    </inertial>
    <visual>
      <origin rpy="0 0 0" xyz="0.11725 0.139201 0.046536"/>
      <geometry>
        <mesh filename="package://simplicity_description/meshes/servo_leg_fr_1.stl" scale="0.001 0.001 0.001"/>
      </geometry>
      <material name="silver"/>
    </visual>
    <collision>
      <origin rpy="0 0 0" xyz="0.11725 0.139201 0.046536"/>
      <geometry>
        <mesh filename="package://simplicity_description/meshes/servo_leg_fr_1.stl" scale="0.001 0.001 0.001"/>
      </geometry>
    </collision>
  </link>
  <link name="servo_leg_br_1">
    <inertial>
      <origin rpy="0 0 0" xyz="0.005432417838997436 0.020743718970050062 -0.013672314816417008"/>
      <mass value="0.12611294901526873"/>
      <inertia ixx="2.4e-05" ixy="-0.0" ixz="0.0" iyy="3.5e-05" iyz="8e-06" izz="3.5e-05"/>
    </inertial>
    <visual>
      <origin rpy="0 0 0" xyz="0.11725 -0.240699 0.046536"/>
      <geometry>
        <mesh filename="package://simplicity_description/meshes/servo_leg_br_1.stl" scale="0.001 0.001 0.001"/>
      </geometry>
      <material name="silver"/>
    </visual>
    <collision>
      <origin rpy="0 0 0" xyz="0.11725 -0.240699 0.046536"/>
      <geometry>
        <mesh filename="package://simplicity_description/meshes/servo_leg_br_1.stl" scale="0.001 0.001 0.001"/>
      </geometry>
    </collision>
  </link>
  <link name="servo_leg_bl_1">
    <inertial>
      <origin rpy="0 0 0" xyz="-0.005432067433614532 0.020743084051436572 -0.0136719640599429"/>
      <mass value="0.12611294901526873"/>
      <inertia ixx="2.4e-05" ixy="0.0" ixz="-0.0" iyy="3.5e-05" iyz="8e-06" izz="3.5e-05"/>
    </inertial>
    <visual>
      <origin rpy="0 0 0" xyz="-0.11725 -0.239144 0.044962"/>
      <geometry>
        <mesh filename="package://simplicity_description/meshes/servo_leg_bl_1.stl" scale="0.001 0.001 0.001"/>
      </geometry>
      <material name="silver"/>
    </visual>
    <collision>
      <origin rpy="0 0 0" xyz="-0.11725 -0.239144 0.044962"/>
      <geometry>
        <mesh filename="package://simplicity_description/meshes/servo_leg_bl_1.stl" scale="0.001 0.001 0.001"/>
      </geometry>
    </collision>
  </link>
  <link name="servo_leg_back_fr_1">
    <inertial>
      <origin rpy="0 0 0" xyz="0.0008661091356842454 -0.0004959786660630322 0.0004967977388669886"/>
      <mass value="0.02281063258866873"/>
      <inertia ixx="5e-06" ixy="0.0" ixz="-0.0" iyy="3e-06" iyz="1e-06" izz="3e-06"/>
    </inertial>
    <visual>
      <origin rpy="0 0 0" xyz="0.09035 0.118066 0.0606"/>
      <geometry>
        <mesh filename="package://simplicity_description/meshes/servo_leg_back_fr_1.stl" scale="0.001 0.001 0.001"/>
      </geometry>
      <material name="silver"/>
    </visual>
    <collision>
      <origin rpy="0 0 0" xyz="0.09035 0.118066 0.0606"/>
      <geometry>
        <mesh filename="package://simplicity_description/meshes/servo_leg_back_fr_1.stl" scale="0.001 0.001 0.001"/>
      </geometry>
    </collision>
  </link>
  <link name="servo_leg_back_fl_1">
    <inertial>
      <origin rpy="0 0 0" xyz="-0.0008661091356878814 -0.0004959786412139094 0.0004963828196939898"/>
      <mass value="0.02281063258866873"/>
      <inertia ixx="5e-06" ixy="-0.0" ixz="0.0" iyy="3e-06" iyz="1e-06" izz="3e-06"/>
    </inertial>
    <visual>
      <origin rpy="0 0 0" xyz="-0.09035 0.118066 0.0606"/>
      <geometry>
        <mesh filename="package://simplicity_description/meshes/servo_leg_back_fl_1.stl" scale="0.001 0.001 0.001"/>
      </geometry>
      <material name="silver"/>
    </visual>
    <collision>
      <origin rpy="0 0 0" xyz="-0.09035 0.118066 0.0606"/>
      <geometry>
        <mesh filename="package://simplicity_description/meshes/servo_leg_back_fl_1.stl" scale="0.001 0.001 0.001"/>
      </geometry>
    </collision>
  </link>
  <link name="servo_leg_back_br_1">
    <inertial>
      <origin rpy="0 0 0" xyz="0.0008661091356926692 -0.000495978666059993 0.0004963827948533533"/>
      <mass value="0.02281063258866873"/>
      <inertia ixx="5e-06" ixy="0.0" ixz="-0.0" iyy="3e-06" iyz="1e-06" izz="3e-06"/>
    </inertial>
    <visual>
      <origin rpy="0 0 0" xyz="0.09035 -0.261834 0.0606"/>
      <geometry>
        <mesh filename="package://simplicity_description/meshes/servo_leg_back_br_1.stl" scale="0.001 0.001 0.001"/>
      </geometry>
      <material name="silver"/>
    </visual>
    <collision>
      <origin rpy="0 0 0" xyz="0.09035 -0.261834 0.0606"/>
      <geometry>
        <mesh filename="package://simplicity_description/meshes/servo_leg_back_br_1.stl" scale="0.001 0.001 0.001"/>
      </geometry>
    </collision>
  </link>
  <link name="servo_leg_back_bl_1">
    <inertial>
      <origin rpy="0 0 0" xyz="-0.0008657587303095154 -0.0004966135598298838 0.0004967335761668704"/>
      <mass value="0.02281063258866873"/>
      <inertia ixx="5e-06" ixy="-0.0" ixz="0.0" iyy="3e-06" iyz="1e-06" izz="3e-06"/>
    </inertial>
    <visual>
      <origin rpy="0 0 0" xyz="-0.09035 -0.260279 0.059026"/>
      <geometry>
        <mesh filename="package://simplicity_description/meshes/servo_leg_back_bl_1.stl" scale="0.001 0.001 0.001"/>
      </geometry>
      <material name="silver"/>
    </visual>
    <collision>
      <origin rpy="0 0 0" xyz="-0.09035 -0.260279 0.059026"/>
      <geometry>
        <mesh filename="package://simplicity_description/meshes/servo_leg_back_bl_1.stl" scale="0.001 0.001 0.001"/>
      </geometry>
    </collision>
  </link>
  <link name="thigh_leg_fl_1">
    <inertial>
      <origin rpy="0 0 0" xyz="-0.018184688190121992 -0.01621811687116803 -0.028090805116575066"/>
      <mass value="0.1156470817084515"/>
      <inertia ixx="4.7e-05" ixy="-3e-06" ixz="-5e-06" iyy="9.9e-05" iyz="-1.9e-05" izz="7.7e-05"/>
    </inertial>
    <visual>
      <origin rpy="0 0 0" xyz="-0.13475 0.125349 0.053317"/>
      <geometry>
        <mesh filename="package://simplicity_description/meshes/thigh_leg_fl_1.stl" scale="0.001 0.001 0.001"/>
      </geometry>
      <material name="silver"/>
    </visual>
    <collision>
      <origin rpy="0 0 0" xyz="-0.13475 0.125349 0.053317"/>
      <geometry>
        <mesh filename="package://simplicity_description/meshes/thigh_leg_fl_1.stl" scale="0.001 0.001 0.001"/>
      </geometry>
    </collision>
  </link>
  <link name="thigh_leg_fr_1">
    <inertial>
      <origin rpy="0 0 0" xyz="0.0181846881901178 -0.016218117023675704 -0.028091390084516582"/>
      <mass value="0.1156470817084515"/>
      <inertia ixx="4.7e-05" ixy="3e-06" ixz="5e-06" iyy="9.9e-05" iyz="-1.9e-05" izz="7.7e-05"/>
    </inertial>
    <visual>
      <origin rpy="0 0 0" xyz="0.13475 0.125349 0.053316"/>
      <geometry>
        <mesh filename="package://simplicity_description/meshes/thigh_leg_fr_1.stl" scale="0.001 0.001 0.001"/>
      </geometry>
      <material name="silver"/>
    </visual>
    <collision>
      <origin rpy="0 0 0" xyz="0.13475 0.125349 0.053316"/>
      <geometry>
        <mesh filename="package://simplicity_description/meshes/thigh_leg_fr_1.stl" scale="0.001 0.001 0.001"/>
      </geometry>
    </collision>
  </link>
  <link name="thigh_leg_bl_1">
    <inertial>
      <origin rpy="0 0 0" xyz="-0.018184337784745666 -0.016218751789786323 -0.028091454360102096"/>
      <mass value="0.1156470817084515"/>
      <inertia ixx="4.7e-05" ixy="-3e-06" ixz="-5e-06" iyy="9.9e-05" iyz="-1.9e-05" izz="7.7e-05"/>
    </inertial>
    <visual>
      <origin rpy="0 0 0" xyz="-0.13475 -0.252996 0.051742"/>
      <geometry>
        <mesh filename="package://simplicity_description/meshes/thigh_leg_bl_1.stl" scale="0.001 0.001 0.001"/>
      </geometry>
      <material name="silver"/>
    </visual>
    <collision>
      <origin rpy="0 0 0" xyz="-0.13475 -0.252996 0.051742"/>
      <geometry>
        <mesh filename="package://simplicity_description/meshes/thigh_leg_bl_1.stl" scale="0.001 0.001 0.001"/>
      </geometry>
    </collision>
  </link>
  <link name="thigh_leg_br_1">
    <inertial>
      <origin rpy="0 0 0" xyz="0.018184688190132442 -0.016218117023675288 -0.02809080502853495"/>
      <mass value="0.1156470817084515"/>
      <inertia ixx="4.7e-05" ixy="3e-06" ixz="5e-06" iyy="9.9e-05" iyz="-1.9e-05" izz="7.7e-05"/>
    </inertial>
    <visual>
      <origin rpy="0 0 0" xyz="0.13475 -0.254551 0.053317"/>
      <geometry>
        <mesh filename="package://simplicity_description/meshes/thigh_leg_br_1.stl" scale="0.001 0.001 0.001"/>
      </geometry>
      <material name="silver"/>
    </visual>
    <collision>
      <origin rpy="0 0 0" xyz="0.13475 -0.254551 0.053317"/>
      <geometry>
        <mesh filename="package://simplicity_description/meshes/thigh_leg_br_1.stl" scale="0.001 0.001 0.001"/>
      </geometry>
    </collision>
  </link>
  <link name="contact_sensor_fl_1">
    <inertial>
      <origin rpy="0 0 0" xyz="-0.010014114249511152 -0.031982263702663605 -0.07328498317579081"/>
      <mass value="0.02331328987325343"/>
      <inertia ixx="1e-06" ixy="0.0" ixz="-0.0" iyy="1e-06" iyz="-0.0" izz="1e-06"/>
    </inertial>
    <visual>
      <origin rpy="0 0 0" xyz="-0.122043 0.153817 0.102672"/>
      <geometry>
        <mesh filename="package://simplicity_description/meshes/contact_sensor_fl_1.stl" scale="0.001 0.001 0.001"/>
      </geometry>
      <material name="silver"/>
    </visual>
    <collision>
      <origin rpy="0 0 0" xyz="-0.122043 0.153817 0.102672"/>
      <geometry>
        <mesh filename="package://simplicity_description/meshes/contact_sensor_fl_1.stl" scale="0.001 0.001 0.001"/>
      </geometry>
    </collision>
  </link>
  <link name="contact_sensor_fr_1">
    <inertial>
      <origin rpy="0 0 0" xyz="-0.010014114994570639 -0.03198226370267268 -0.07328456823177738"/>
      <mass value="0.023313289873253422"/>
      <inertia ixx="1e-06" ixy="0.0" ixz="-0.0" iyy="1e-06" iyz="-0.0" izz="1e-06"/>
    </inertial>
    <visual>
      <origin rpy="0 0 0" xyz="0.102357 0.153817 0.102672"/>
      <geometry>
        <mesh filename="package://simplicity_description/meshes/contact_sensor_fr_1.stl" scale="0.001 0.001 0.001"/>
      </geometry>
      <material name="silver"/>
    </visual>
    <collision>
      <origin rpy="0 0 0" xyz="0.102357 0.153817 0.102672"/>
      <geometry>
        <mesh filename="package://simplicity_description/meshes/contact_sensor_fr_1.stl" scale="0.001 0.001 0.001"/>
      </geometry>
    </collision>
  </link>
  <link name="contact_sensor_bl_1">
    <inertial>
      <origin rpy="0 0 0" xyz="-0.010013763844137685 -0.03198189862128145 -0.0732846324193179"/>
      <mass value="0.023313289873253474"/>
      <inertia ixx="1e-06" ixy="0.0" ixz="-0.0" iyy="1e-06" iyz="-0.0" izz="1e-06"/>
    </inertial>
    <visual>
      <origin rpy="0 0 0" xyz="-0.122043 -0.224527 0.101098"/>
      <geometry>
        <mesh filename="package://simplicity_description/meshes/contact_sensor_bl_1.stl" scale="0.001 0.001 0.001"/>
      </geometry>
      <material name="silver"/>
    </visual>
    <collision>
      <origin rpy="0 0 0" xyz="-0.122043 -0.224527 0.101098"/>
      <geometry>
        <mesh filename="package://simplicity_description/meshes/contact_sensor_bl_1.stl" scale="0.001 0.001 0.001"/>
      </geometry>
    </collision>
  </link>
  <link name="contact_sensor_br_1">
    <inertial>
      <origin rpy="0 0 0" xyz="-0.010014127446017373 -0.03198235684267073 -0.07328492487984382"/>
      <mass value="0.02331358403500205"/>
      <inertia ixx="1e-06" ixy="0.0" ixz="-0.0" iyy="1e-06" iyz="-0.0" izz="1e-06"/>
    </inertial>
    <visual>
      <origin rpy="0 0 0" xyz="0.102357 -0.226083 0.102672"/>
      <geometry>
        <mesh filename="package://simplicity_description/meshes/contact_sensor_br_1.stl" scale="0.001 0.001 0.001"/>
      </geometry>
      <material name="silver"/>
    </visual>
    <collision>
      <origin rpy="0 0 0" xyz="0.102357 -0.226083 0.102672"/>
      <geometry>
        <mesh filename="package://simplicity_description/meshes/contact_sensor_br_1.stl" scale="0.001 0.001 0.001"/>
      </geometry>
    </collision>
  </link>
  <link name="leg_fl_1">
    <inertial>
      <origin rpy="0 0 0" xyz="0.0001058905962506157 0.019028085856196253 0.03963311078041559"/>
      <mass value="0.14550955662938456"/>
      <inertia ixx="7.7e-05" ixy="-0.0" ixz="0.0" iyy="7.3e-05" iyz="-2.9e-05" izz="2.7e-05"/>
    </inertial>
    <visual>
      <origin rpy="0 0 0" xyz="-0.111982 0.187094 0.170967"/>
      <geometry>
        <mesh filename="package://simplicity_description/meshes/leg_fl_1.stl" scale="0.001 0.001 0.001"/>
      </geometry>
      <material name="silver"/>
    </visual>
    <collision>
      <origin rpy="0 0 0" xyz="-0.111982 0.187094 0.170967"/>
      <geometry>
        <mesh filename="package://simplicity_description/meshes/leg_fl_1.stl" scale="0.001 0.001 0.001"/>
      </geometry>
    </collision>
  </link>
  <link name="leg_fr_1">
    <inertial>
      <origin rpy="0 0 0" xyz="0.00010588985118935301 0.01902808585618737 0.03963352572442902"/>
      <mass value="0.14550955662938456"/>
      <inertia ixx="7.7e-05" ixy="-0.0" ixz="0.0" iyy="7.3e-05" iyz="-2.9e-05" izz="2.7e-05"/>
    </inertial>
    <visual>
      <origin rpy="0 0 0" xyz="0.112418 0.187094 0.170967"/>
      <geometry>
        <mesh filename="package://simplicity_description/meshes/leg_fr_1.stl" scale="0.001 0.001 0.001"/>
      </geometry>
      <material name="silver"/>
    </visual>
    <collision>
      <origin rpy="0 0 0" xyz="0.112418 0.187094 0.170967"/>
      <geometry>
        <mesh filename="package://simplicity_description/meshes/leg_fr_1.stl" scale="0.001 0.001 0.001"/>
      </geometry>
    </collision>
  </link>
  <link name="leg_bl_1">
    <inertial>
      <origin rpy="0 0 0" xyz="0.00010524100162287442 0.01902845093757835 0.039633461536888515"/>
      <mass value="0.14550955662938456"/>
      <inertia ixx="7.7e-05" ixy="-0.0" ixz="0.0" iyy="7.3e-05" iyz="-2.9e-05" izz="2.7e-05"/>
    </inertial>
    <visual>
      <origin rpy="0 0 0" xyz="-0.111983 -0.19125 0.169393"/>
      <geometry>
        <mesh filename="package://simplicity_description/meshes/leg_bl_1.stl" scale="0.001 0.001 0.001"/>
      </geometry>
      <material name="silver"/>
    </visual>
    <collision>
      <origin rpy="0 0 0" xyz="-0.111983 -0.19125 0.169393"/>
      <geometry>
        <mesh filename="package://simplicity_description/meshes/leg_bl_1.stl" scale="0.001 0.001 0.001"/>
      </geometry>
    </collision>
  </link>
  <link name="leg_br_1">
    <inertial>
      <origin rpy="0 0 0" xyz="0.00010588985121896821 0.019028085856187954 0.0396331107804114"/>
      <mass value="0.14550955662938475"/>
      <inertia ixx="7.7e-05" ixy="-0.0" ixz="0.0" iyy="7.3e-05" iyz="-2.9e-05" izz="2.7e-05"/>
    </inertial>
    <visual>
      <origin rpy="0 0 0" xyz="0.112418 -0.192806 0.170967"/>
      <geometry>
        <mesh filename="package://simplicity_description/meshes/leg_br_1.stl" scale="0.001 0.001 0.001"/>
      </geometry>
      <material name="silver"/>
    </visual>
    <collision>
      <origin rpy="0 0 0" xyz="0.112418 -0.192806 0.170967"/>
      <geometry>
        <mesh filename="package://simplicity_description/meshes/leg_br_1.stl" scale="0.001 0.001 0.001"/>
      </geometry>
    </collision>
  </link>
  <joint name="Rigid1" type="fixed">
    <origin rpy="0 0 0" xyz="-0.014 -0.145 0.07"/>
    <parent link="base_link"/>
    <child link="flap_1"/>
  </joint>
  <joint name="Rigid2" type="fixed">
    <origin rpy="0 0 0" xyz="0.0175 -0.185 0.044195"/>
    <parent link="base_link"/>
    <child link="shoulder_link_ft_1"/>
  </joint>
  <joint name="Rigid3" type="fixed">
    <origin rpy="0 0 0" xyz="-0.0175 -0.185 -0.032226"/>
    <parent link="base_link"/>
    <child link="shoulder_link_fb_1"/>
  </joint>
  <joint name="Rigid4" type="fixed">
    <origin rpy="0 0 0" xyz="-0.0175 0.175 0.044195"/>
    <parent link="base_link"/>
    <child link="shoulder_link_bt_1"/>
  </joint>
  <joint name="Rigid5" type="fixed">
    <origin rpy="0 0 0" xyz="-0.0175 0.175 -0.032226"/>
    <parent link="base_link"/>
    <child link="shoulder_link_bb_1"/>
  </joint>
  <joint name="Rigid6" type="fixed">
    <origin rpy="0 0 0" xyz="0.0025 -0.015 0.013321"/>
    <parent link="shoulder_link_fb_1"/>
    <child link="servo_shoulder_fr_1"/>
  </joint>
  <joint name="Rigid7" type="fixed">
    <origin rpy="0 0 0" xyz="-0.0025 -0.015 -0.013321"/>
    <parent link="shoulder_link_ft_1"/>
    <child link="servo_shoulder_fl_1"/>
  </joint>
  <joint name="Rigid8" type="fixed">
    <origin rpy="0 0 0" xyz="-0.0075 0.015 -0.013321"/>
    <parent link="shoulder_link_bt_1"/>
    <child link="servo_shoulder_br_1"/>
  </joint>
  <joint name="Rigid9" type="fixed">
    <origin rpy="0 0 0" xyz="0.0325 0.015 -0.013302"/>
    <parent link="shoulder_link_bt_1"/>
    <child link="servo_shoulder_bl_1"/>
  </joint>
  <joint name="Rigid10" type="fixed">
    <origin rpy="0 0 0" xyz="0.005 0.0269 -0.02489"/>
    <parent link="servo_shoulder_fl_1"/>
    <child link="servo_back_fl_1"/>
  </joint>
  <joint name="Rigid11" type="fixed">
    <origin rpy="0 0 0" xyz="-0.005 0.0269 0.02489"/>
    <parent link="servo_shoulder_fr_1"/>
    <child link="servo_back_fr_1"/>
  </joint>
  <joint name="Rigid12" type="fixed">
    <origin rpy="0 0 0" xyz="0.005 -0.0269 -0.02489"/>
    <parent link="servo_shoulder_br_1"/>
    <child link="servo_back_br_1"/>
  </joint>
  <joint name="Rigid13" type="fixed">
    <origin rpy="0 0 0" xyz="0.005 -0.0269 -0.02489"/>
    <parent link="servo_shoulder_bl_1"/>
    <child link="servo_back_bl_1"/>
  </joint>
  <joint name="Rev14" type="continuous">
    <origin rpy="0 0 0" xyz="-0.005 -0.0175 0.03519"/>
    <parent link="servo_shoulder_fr_1"/>
    <child link="shoulder_thigh_fr_1"/>
    <axis xyz="0.0 -1.0 0.0"/>
  </joint>
  <joint name="Rev15" type="continuous">
    <origin rpy="0 0 0" xyz="0.005 -0.0175 -0.01459"/>
    <parent link="servo_shoulder_fl_1"/>
    <child link="shoulder_thigh_fl_1"/>
    <axis xyz="0.0 -1.0 -0.0"/>
  </joint>
  <joint name="Rev16" type="continuous">
    <origin rpy="0 0 0" xyz="0.005 0.0175 -0.01459"/>
    <parent link="servo_shoulder_bl_1"/>
    <child link="shoulder_thigh_bl_1"/>
    <axis xyz="-0.0 1.0 -0.0"/>
  </joint>
  <joint name="Rev17" type="continuous">
    <origin rpy="0 0 0" xyz="0.005 0.0175 -0.01459"/>
    <parent link="servo_shoulder_br_1"/>
    <child link="shoulder_thigh_br_1"/>
    <axis xyz="-0.0 1.0 -0.0"/>
  </joint>
  <joint name="Rev18" type="continuous">
    <origin rpy="0 0 0" xyz="0.05975 0.02255 0.0"/>
    <parent link="shoulder_thigh_fl_1"/>
    <child link="servo_thigh_fl_1"/>
    <axis xyz="-1.0 -0.0 0.0"/>
  </joint>
  <joint name="Rev19" type="continuous">
    <origin rpy="0 0 0" xyz="-0.05975 0.02255 0.0"/>
    <parent link="shoulder_thigh_fr_1"/>
    <child link="servo-thigh_fr_1"/>
    <axis xyz="1.0 -0.0 0.0"/>
  </joint>
  <joint name="Rev20" type="continuous">
    <origin rpy="0 0 0" xyz="-0.05975 -0.02255 0.0"/>
    <parent link="shoulder_thigh_br_1"/>
    <child link="servo_thigh_br_1"/>
    <axis xyz="1.0 0.0 0.0"/>
  </joint>
  <joint name="Rev21" type="continuous">
    <origin rpy="0 0 0" xyz="0.05975 -0.02255 0.0"/>
    <parent link="shoulder_thigh_bl_1"/>
    <child link="servo_thigh_bl_1"/>
    <axis xyz="-1.0 0.0 -0.0"/>
  </joint>
  <joint name="Rigid23" type="fixed">
    <origin rpy="0 0 0" xyz="0.0175 0.013852 -0.00678"/>
    <parent link="servo_thigh_fl_1"/>
    <child link="thigh_fl_1"/>
  </joint>
  <joint name="Rigid24" type="fixed">
    <origin rpy="0 0 0" xyz="-0.0175 0.006781 -0.013852"/>
    <parent link="servo-thigh_fr_1"/>
    <child link="thigh_fr_1"/>
  </joint>
  <joint name="Rigid25" type="fixed">
    <origin rpy="0 0 0" xyz="-0.0175 0.006781 -0.013852"/>
    <parent link="servo_thigh_br_1"/>
    <child link="thigh_br_1"/>
  </joint>
  <joint name="Rigid26" type="fixed">
    <origin rpy="0 0 0" xyz="0.0175 0.012296 -0.005225"/>
    <parent link="servo_thigh_bl_1"/>
    <child link="thigh_bl_1"/>
  </joint>
  <joint name="Rigid27" type="fixed">
    <origin rpy="0 0 0" xyz="0.02 0.041897 -0.05604"/>
    <parent link="thigh_fl_1"/>
    <child link="servo_leg_fl_1"/>
  </joint>
  <joint name="Rigid28" type="fixed">
    <origin rpy="0 0 0" xyz="-0.02 0.048968 -0.048969"/>
    <parent link="thigh_fr_1"/>
    <child link="servo_leg_fr_1"/>
  </joint>
  <joint name="Rigid29" type="fixed">
    <origin rpy="0 0 0" xyz="-0.02 0.048968 -0.048968"/>
    <parent link="thigh_br_1"/>
    <child link="servo_leg_br_1"/>
  </joint>
  <joint name="Rigid30" type="fixed">
    <origin rpy="0 0 0" xyz="0.02 0.041898 -0.05604"/>
    <parent link="thigh_bl_1"/>
    <child link="servo_leg_bl_1"/>
  </joint>
  <joint name="Rigid31" type="fixed">
    <origin rpy="0 0 0" xyz="0.0269 0.021135 -0.014064"/>
    <parent link="servo_leg_fr_1"/>
    <child link="servo_leg_back_fr_1"/>
  </joint>
  <joint name="Rigid32" type="fixed">
    <origin rpy="0 0 0" xyz="-0.0269 0.021135 -0.014064"/>
    <parent link="servo_leg_fl_1"/>
    <child link="servo_leg_back_fl_1"/>
  </joint>
  <joint name="Rigid33" type="fixed">
    <origin rpy="0 0 0" xyz="0.0269 0.021135 -0.014064"/>
    <parent link="servo_leg_br_1"/>
    <child link="servo_leg_back_br_1"/>
  </joint>
  <joint name="Rigid34" type="fixed">
    <origin rpy="0 0 0" xyz="-0.0269 0.021135 -0.014064"/>
    <parent link="servo_leg_bl_1"/>
    <child link="servo_leg_back_bl_1"/>
  </joint>
  <joint name="Rev35" type="continuous">
    <origin rpy="0 0 0" xyz="0.0175 0.013852 -0.006781"/>
    <parent link="servo_leg_fl_1"/>
    <child link="thigh_leg_fl_1"/>
    <axis xyz="1.0 0.0 -0.0"/>
  </joint>
  <joint name="Rev36" type="continuous">
    <origin rpy="0 0 0" xyz="-0.0175 0.013852 -0.00678"/>
    <parent link="servo_leg_fr_1"/>
    <child link="thigh_leg_fr_1"/>
    <axis xyz="-1.0 0.0 0.0"/>
  </joint>
  <joint name="Rev37" type="continuous">
    <origin rpy="0 0 0" xyz="0.0175 0.013852 -0.00678"/>
    <parent link="servo_leg_bl_1"/>
    <child link="thigh_leg_bl_1"/>
    <axis xyz="1.0 -0.0 0.0"/>
  </joint>
  <joint name="Rev38" type="continuous">
    <origin rpy="0 0 0" xyz="-0.0175 0.013852 -0.006781"/>
    <parent link="servo_leg_br_1"/>
    <child link="thigh_leg_br_1"/>
    <axis xyz="-1.0 -0.0 -0.0"/>
  </joint>
  <joint name="Rigid39" type="fixed">
    <origin rpy="0 0 0" xyz="-0.012707 -0.028468 -0.049355"/>
    <parent link="thigh_leg_fl_1"/>
    <child link="contact_sensor_fl_1"/>
  </joint>
  <joint name="Rigid40" type="fixed">
    <origin rpy="0 0 0" xyz="0.032393 -0.028468 -0.049356"/>
    <parent link="thigh_leg_fr_1"/>
    <child link="contact_sensor_fr_1"/>
  </joint>
  <joint name="Rigid41" type="fixed">
    <origin rpy="0 0 0" xyz="-0.012707 -0.028469 -0.049356"/>
    <parent link="thigh_leg_bl_1"/>
    <child link="contact_sensor_bl_1"/>
  </joint>
  <joint name="Rigid42" type="fixed">
    <origin rpy="0 0 0" xyz="0.032393 -0.028468 -0.049355"/>
    <parent link="thigh_leg_br_1"/>
    <child link="contact_sensor_br_1"/>
  </joint>
  <joint name="Rigid43" type="fixed">
    <origin rpy="0 0 0" xyz="-0.010061 -0.033277 -0.068295"/>
    <parent link="contact_sensor_fl_1"/>
    <child link="leg_fl_1"/>
  </joint>
  <joint name="Rigid44" type="fixed">
    <origin rpy="0 0 0" xyz="-0.010061 -0.033277 -0.068295"/>
    <parent link="contact_sensor_fr_1"/>
    <child link="leg_fr_1"/>
  </joint>
  <joint name="Rigid45" type="fixed">
    <origin rpy="0 0 0" xyz="-0.01006 -0.033277 -0.068295"/>
    <parent link="contact_sensor_bl_1"/>
    <child link="leg_bl_1"/>
  </joint>
  <joint name="Rigid46" type="fixed">
    <origin rpy="0 0 0" xyz="-0.010061 -0.033277 -0.068295"/>
    <parent link="contact_sensor_br_1"/>
    <child link="leg_br_1"/>
  </joint>
</robot>
